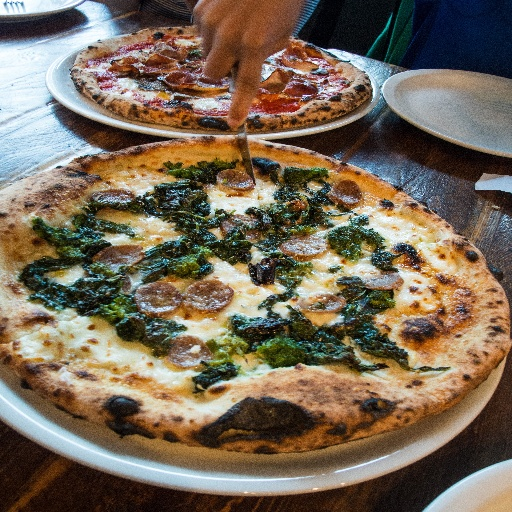hand: (195, 0, 288, 89)
